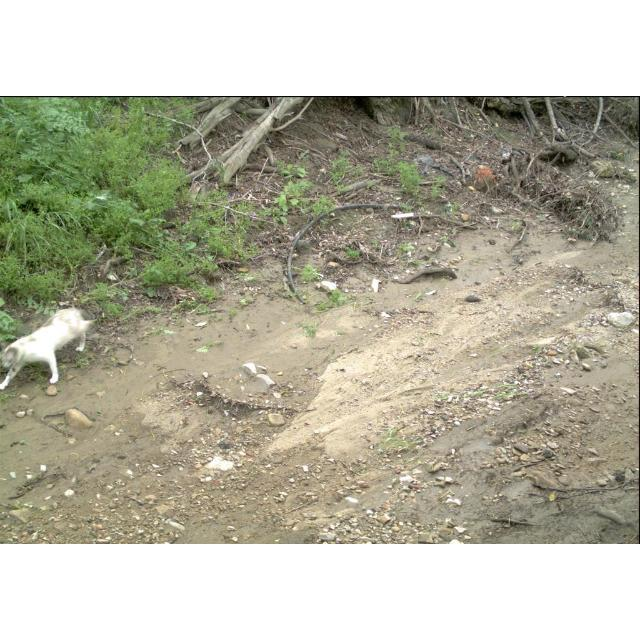animals: (2, 305, 96, 391)
